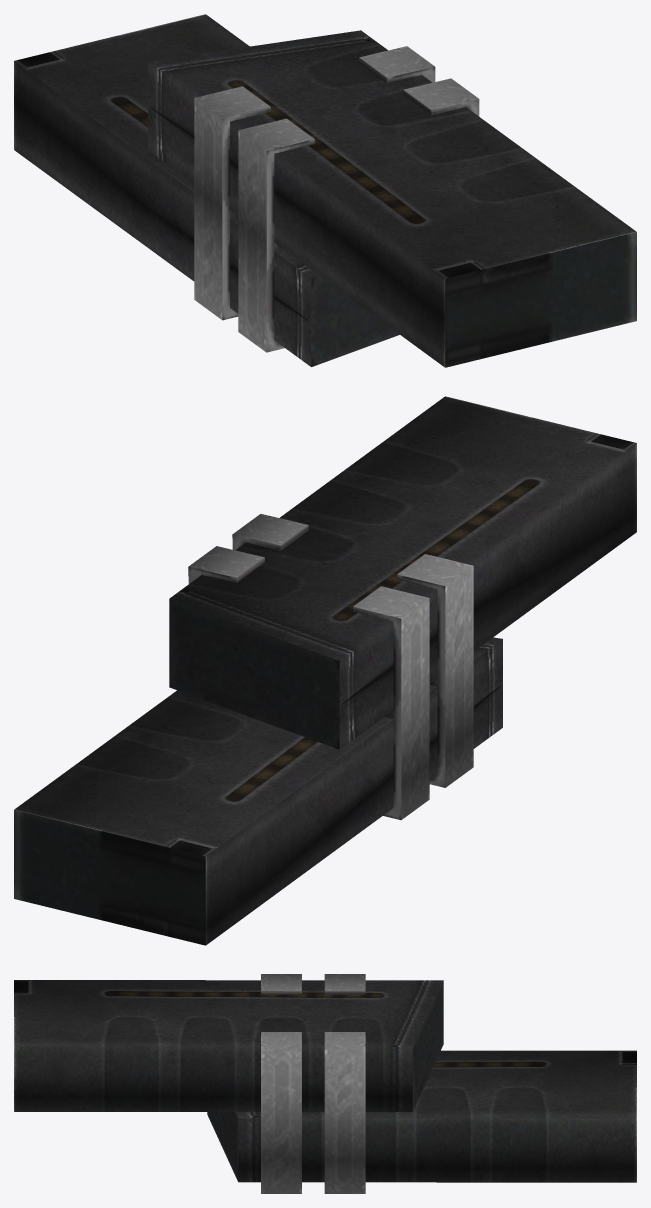
The model's file is t6_attach_fastmag_peacekeeper_world_LOD1.obj.
3 renders of one model, top to bottom at view 1: azimuth 30°, elevation 25°; view 2: azimuth 150°, elevation 25°; view 3: azimuth 270°, elevation 25°, orthographic. The views are drawn at different scales.
Parts seen in each view (by area): view 1: mtl_t6_wpn_smg_peacekeeper_camo4, mtl_t6_wpn_smg_peacekeeper_camo3; view 2: mtl_t6_wpn_smg_peacekeeper_camo4, mtl_t6_wpn_smg_peacekeeper_camo3; view 3: mtl_t6_wpn_smg_peacekeeper_camo4, mtl_t6_wpn_smg_peacekeeper_camo3.
Boxes of the visible parts, box(x1,y1,x2,y2) form: mtl_t6_wpn_smg_peacekeeper_camo4: box(14, 14, 636, 367); mtl_t6_wpn_smg_peacekeeper_camo3: box(194, 46, 478, 352); mtl_t6_wpn_smg_peacekeeper_camo4: box(14, 396, 636, 945); mtl_t6_wpn_smg_peacekeeper_camo3: box(189, 514, 473, 819); mtl_t6_wpn_smg_peacekeeper_camo4: box(14, 980, 636, 1182); mtl_t6_wpn_smg_peacekeeper_camo3: box(261, 974, 365, 1193).
Bounding box in the file's own units: 6.1 × 5.54 × 21.4.
